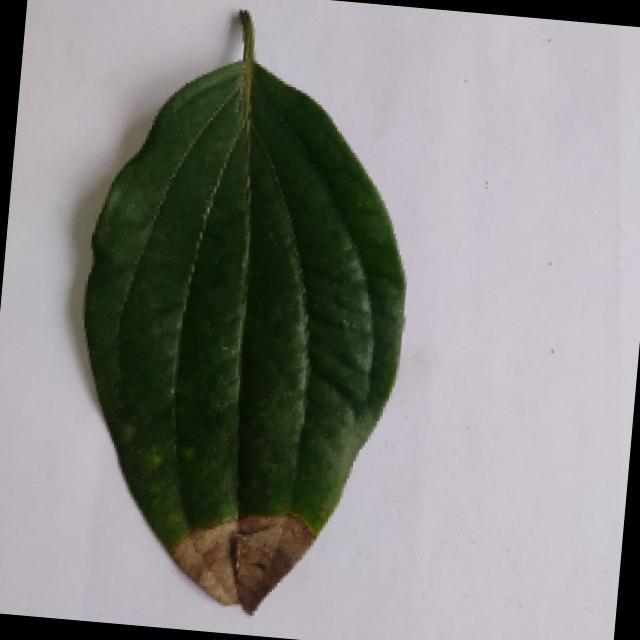footrot: (52, 7, 432, 624)
